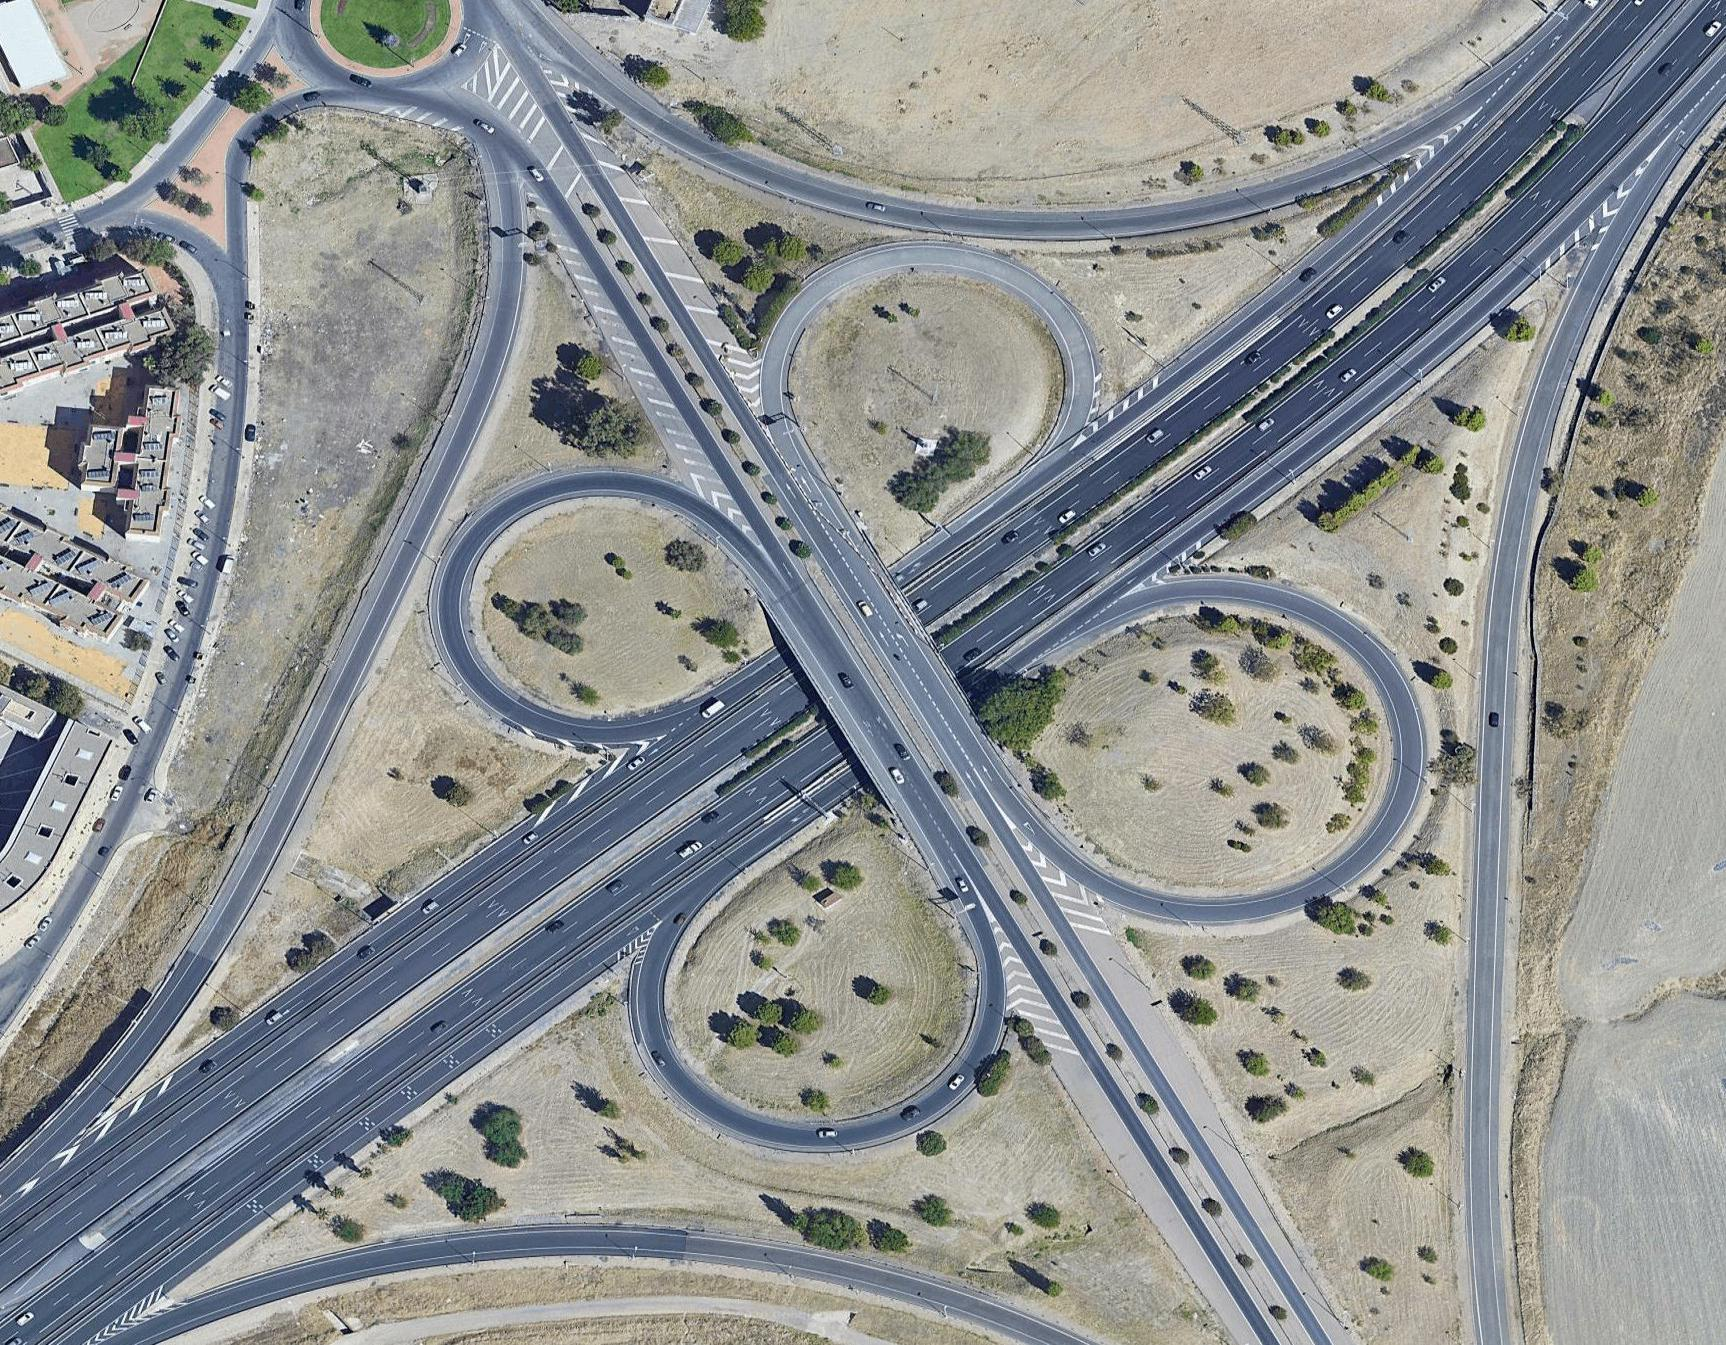bridge: (736, 590, 1048, 799)
roundabout: (298, 1, 499, 84)
